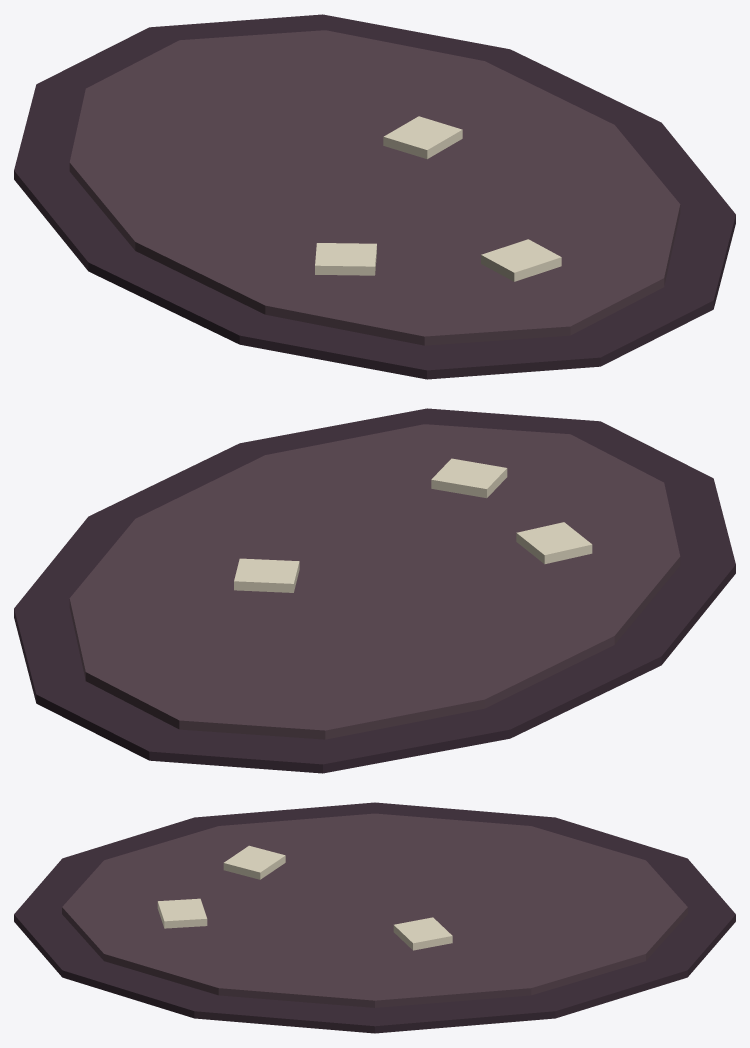
Rendered from env_r4_grave_mound.glb.
3 renders of one model, top to bottom at view 1: azimuth 30°, elevation 25°; view 2: azimuth 150°, elevation 25°; view 3: azimuth 270°, elevation 25°, orthographic. The views are drawn at different scales.
Parts seen in each view (by area): view 1: env_r4_grave_mound; view 2: env_r4_grave_mound; view 3: env_r4_grave_mound.
Part boxes in pixels (x1=…): env_r4_grave_mound: x1=14, y1=14, x2=735, y2=379; env_r4_grave_mound: x1=14, y1=408, x2=735, y2=773; env_r4_grave_mound: x1=14, y1=802, x2=735, y2=1033.
Bounding box in the file's own units: 2.2 × 0.1 × 3.
Materials: 1 (1 with a texture image).
